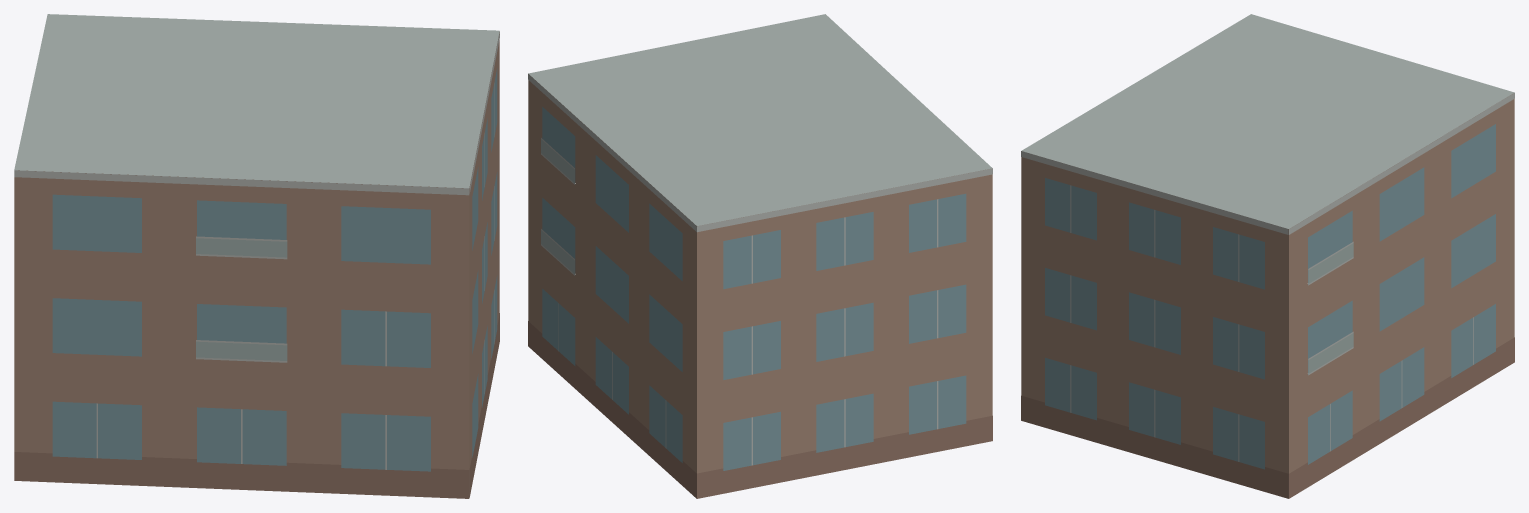
File: survey-upis-32772534.glb
3 views of the same model, side by side, from view 1: azimuth 30°, elevation 25°; view 2: azimuth 150°, elevation 25°; view 3: azimuth 270°, elevation 25° (orthographic). The views are drawn at different scales.
Visible parts, largest first — view 1: survey-upis-32772534.tmp; view 2: survey-upis-32772534.tmp; view 3: survey-upis-32772534.tmp.
Boxes of the visible parts, <box> form: survey-upis-32772534.tmp: <box>14,14,499,498</box>; survey-upis-32772534.tmp: <box>528,14,992,498</box>; survey-upis-32772534.tmp: <box>1021,14,1514,498</box>.
Size of the model in its own units: 18.64 by 10.9 by 18.08.
